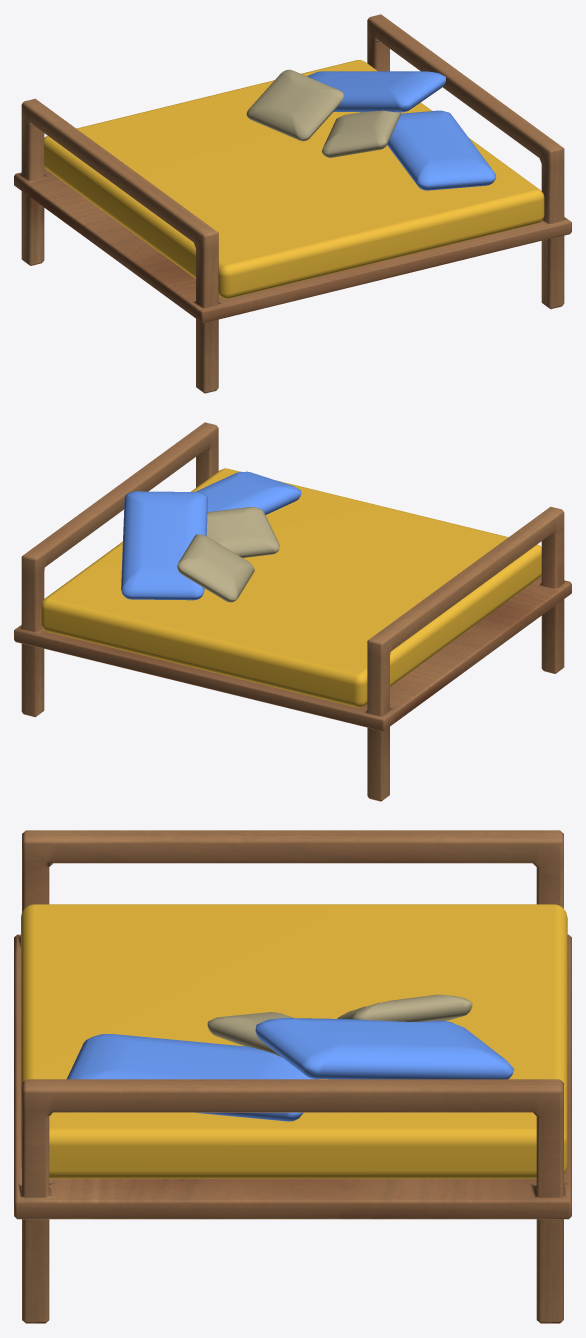
The model's file is BedGuest2.fbx.
The picture shows the model from 3 angles, top to bottom: view 1: azimuth 30°, elevation 25°; view 2: azimuth 150°, elevation 25°; view 3: azimuth 270°, elevation 25°; orthographic projection. The views are drawn at different scales.
Visible parts, largest first — view 1: Mattress, Frame, Pillow3, Pillow4, Pillow, Pillow2; view 2: Mattress, Frame, Pillow, Pillow4, Pillow3, Pillow2; view 3: Mattress, Frame, Pillow, Pillow3, Pillow4, Pillow2.
Boxes of the visible parts, bbox=[...] form: Mattress: bbox=[44, 60, 544, 298]; Frame: bbox=[14, 14, 571, 393]; Pillow3: bbox=[387, 110, 496, 190]; Pillow4: bbox=[246, 69, 343, 141]; Pillow: bbox=[307, 71, 445, 112]; Pillow2: bbox=[322, 110, 401, 157]; Mattress: bbox=[40, 468, 541, 707]; Frame: bbox=[14, 422, 571, 801]; Pillow: bbox=[121, 491, 207, 600]; Pillow4: bbox=[177, 534, 254, 602]; Pillow3: bbox=[195, 471, 301, 514]; Pillow2: bbox=[206, 507, 279, 557]; Mattress: bbox=[21, 904, 567, 1178]; Frame: bbox=[14, 830, 571, 1323]; Pillow: bbox=[255, 1018, 514, 1079]; Pillow3: bbox=[67, 1034, 318, 1121]; Pillow4: bbox=[337, 994, 472, 1021]; Pillow2: bbox=[207, 1012, 294, 1057].
Bounding box in the file's own units: 4 × 1.73 × 3.53.
